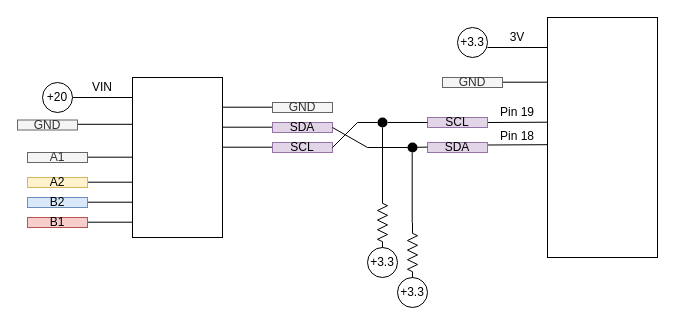
Image size: 675x325. Some labels were removed from this diagram. Each missing label, with the centre of its shape:
TEENSY 4.1: the point at 602,137
TICT249: the point at 177,157
